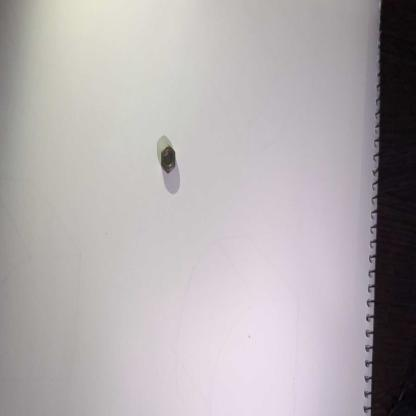NUTS: (157, 142, 181, 178)
